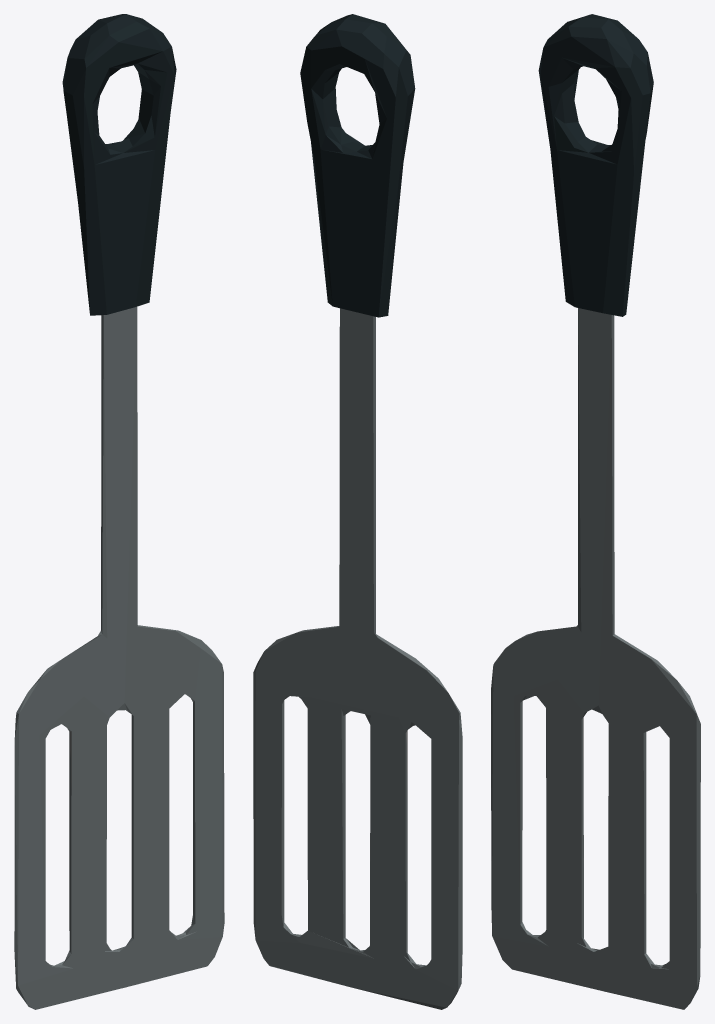
Rendered from Spatula02.fbx.
The picture shows the model from 3 angles, left to right: view 1: azimuth 30°, elevation 25°; view 2: azimuth 150°, elevation 25°; view 3: azimuth 330°, elevation 25°; orthographic projection.
Visible parts, largest first — view 1: Spatula02LowPoly; view 2: Spatula02LowPoly; view 3: Spatula02LowPoly.
Boxes of the visible parts, <box> form: Spatula02LowPoly: <box>14,14,224,1009</box>; Spatula02LowPoly: <box>253,14,462,1009</box>; Spatula02LowPoly: <box>491,14,700,1009</box>.
Size of the model in its own units: 6.72 by 29.73 by 1.41.
